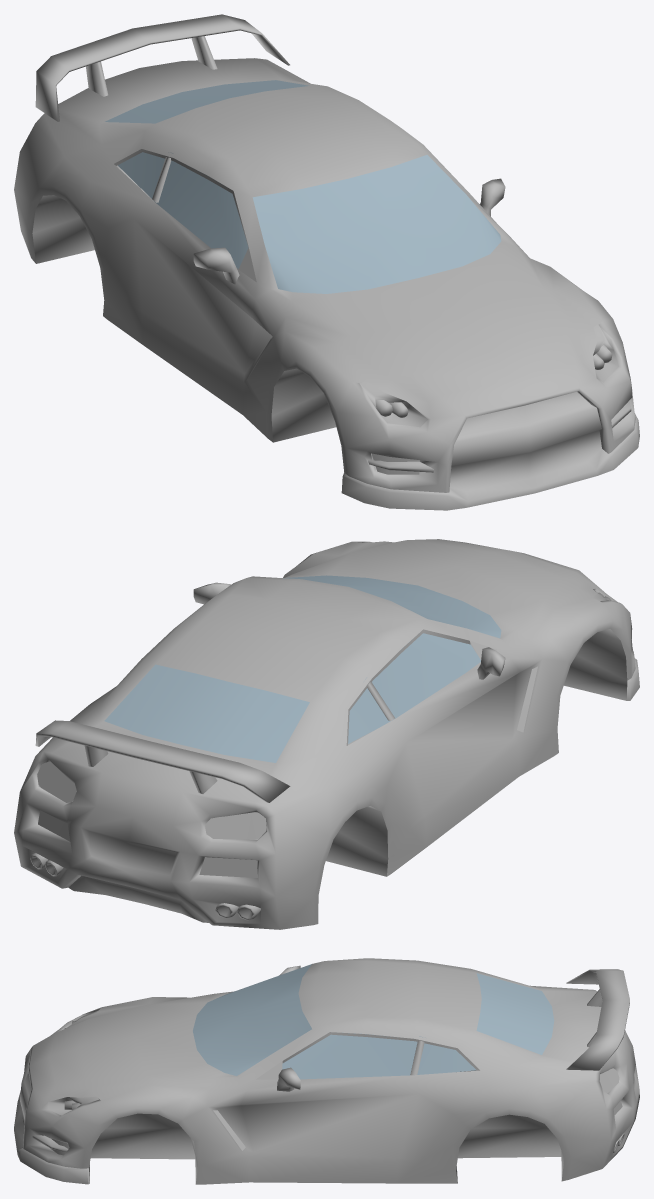
File: Car_8_LOD1.FBX
3 renders of one model, top to bottom at view 1: azimuth 30°, elevation 25°; view 2: azimuth 150°, elevation 25°; view 3: azimuth 270°, elevation 25°, orthographic. The views are drawn at different scales.
Visible parts, largest first — view 1: Body_8, Matte_8, Glass_8; view 2: Body_8, Glass_8, Matte_8, Taillights_8; view 3: Body_8, Glass_8, Matte_8, Taillights_8.
Boxes of the visible parts, x1=… form: Body_8: x1=14, y1=58, x2=635, y2=492; Matte_8: x1=32, y1=14, x2=639, y2=510; Glass_8: x1=105, y1=80, x2=501, y2=293; Body_8: x1=14, y1=539, x2=635, y2=929; Glass_8: x1=104, y1=575, x2=501, y2=762; Matte_8: x1=30, y1=541, x2=639, y2=922; Taillights_8: x1=37, y1=761, x2=266, y2=839; Body_8: x1=23, y1=958, x2=639, y2=1184; Glass_8: x1=193, y1=964, x2=554, y2=1079; Matte_8: x1=14, y1=965, x2=629, y2=1184; Taillights_8: x1=599, y1=1068, x2=619, y2=1093.
Size of what is drawn, in the model's own units: 2.01 by 1.19 by 4.62.
